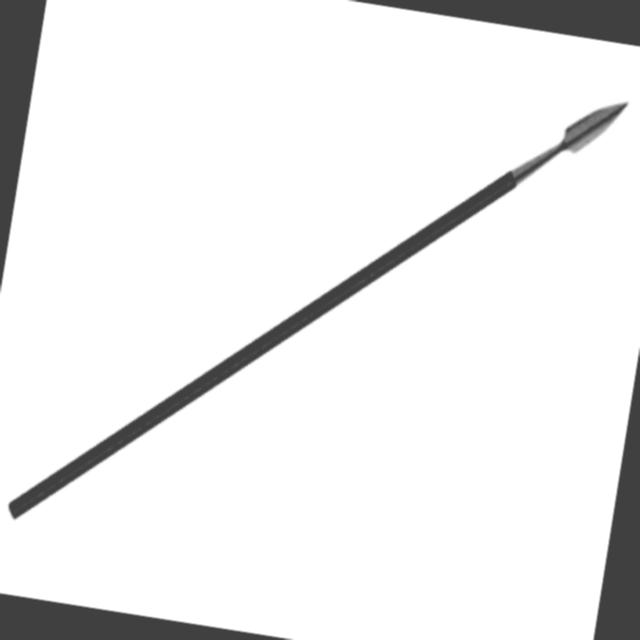spear: (0, 0, 640, 617)
